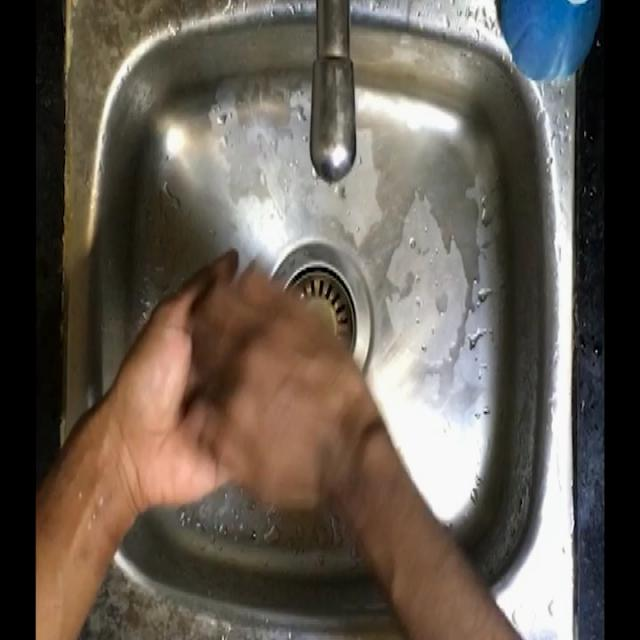step_4: (134, 255, 375, 507)
